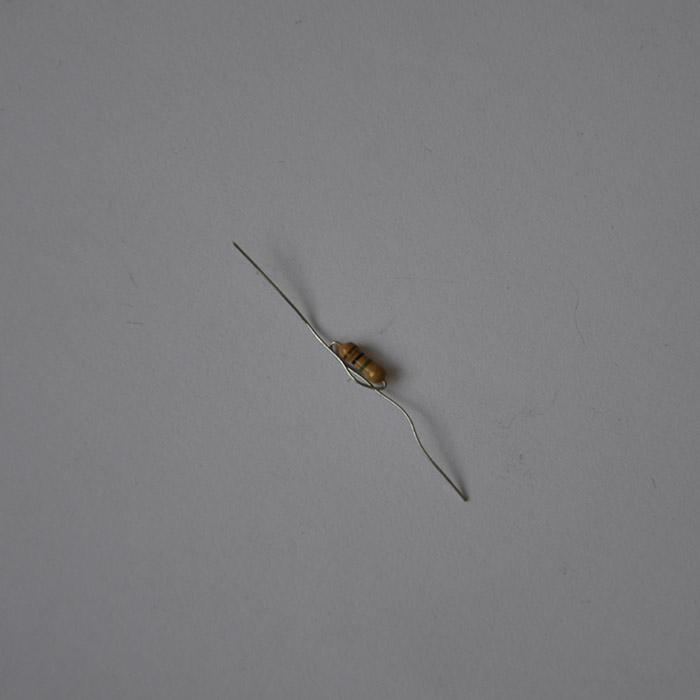resistor: (332, 340, 385, 384)
